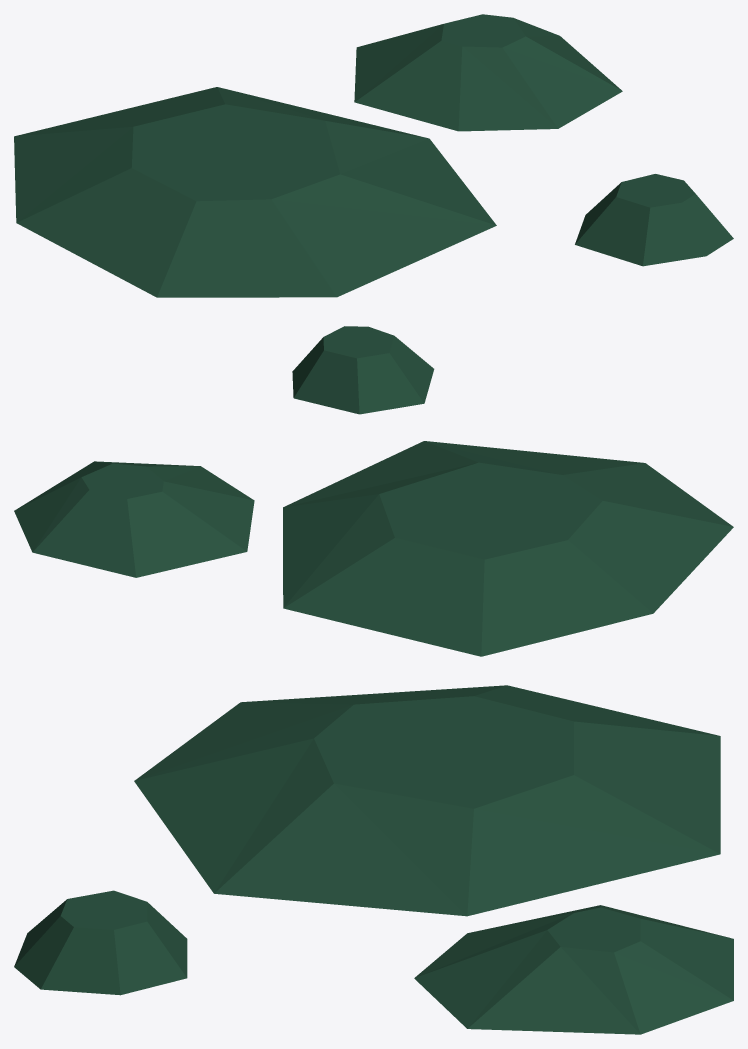
The model's file is obj_swamp_bubbles_2_0.obj.
3 renders of one model, top to bottom at view 1: azimuth 30°, elevation 25°; view 2: azimuth 150°, elevation 25°; view 3: azimuth 270°, elevation 25°, orthographic. The views are drawn at different scales.
Bounding box in the file's own units: 0.9688 × 0.0625 × 0.8438.
